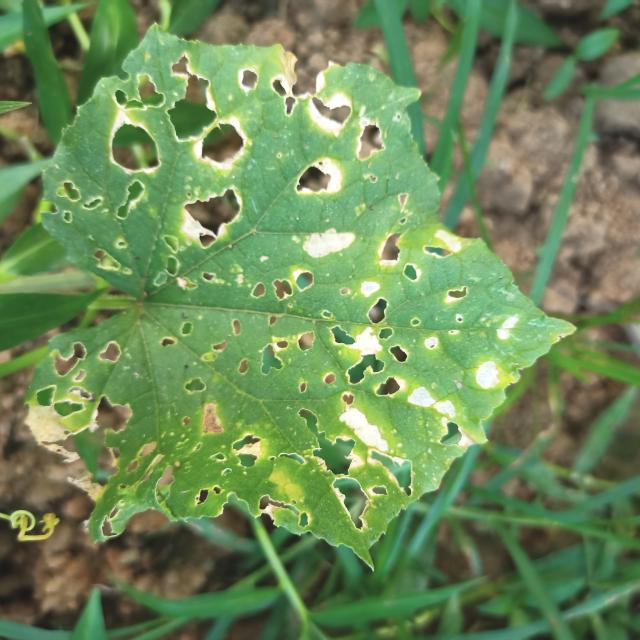disease_cucumber: (35, 67, 501, 509)
